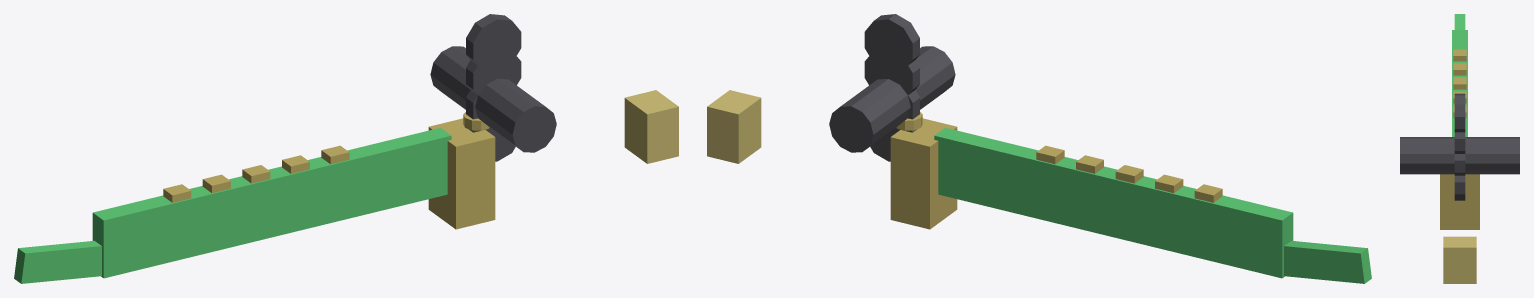
File: zehir_bicak.glb
3 views of the same model, side by side, from view 1: azimuth 30°, elevation 25°; view 2: azimuth 150°, elevation 25°; view 3: azimuth 270°, elevation 25° (orthographic). The views are drawn at different scales.
Visible parts, largest first — view 1: geometry_0; view 2: geometry_0; view 3: geometry_0.
Boxes of the visible parts, x1=… form: geometry_0: x1=14, y1=14, x2=678, y2=283; geometry_0: x1=707, y1=14, x2=1371, y2=283; geometry_0: x1=1400, y1=14, x2=1519, y2=283.
Size of the model in its own units: 0.411 by 0.115 by 0.09.
